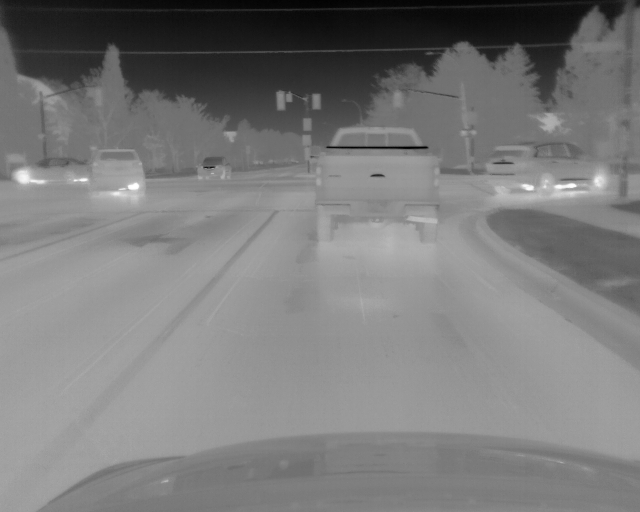car: (313, 128, 441, 242), (483, 138, 611, 194), (90, 147, 149, 202), (11, 155, 85, 187), (193, 155, 231, 181)
